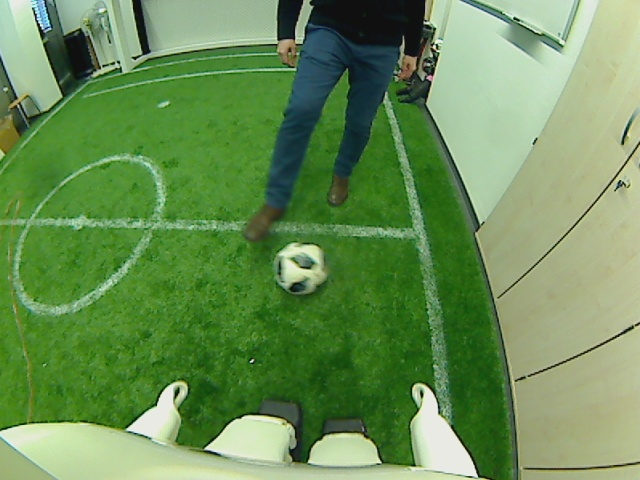ball: (273, 241, 329, 295)
